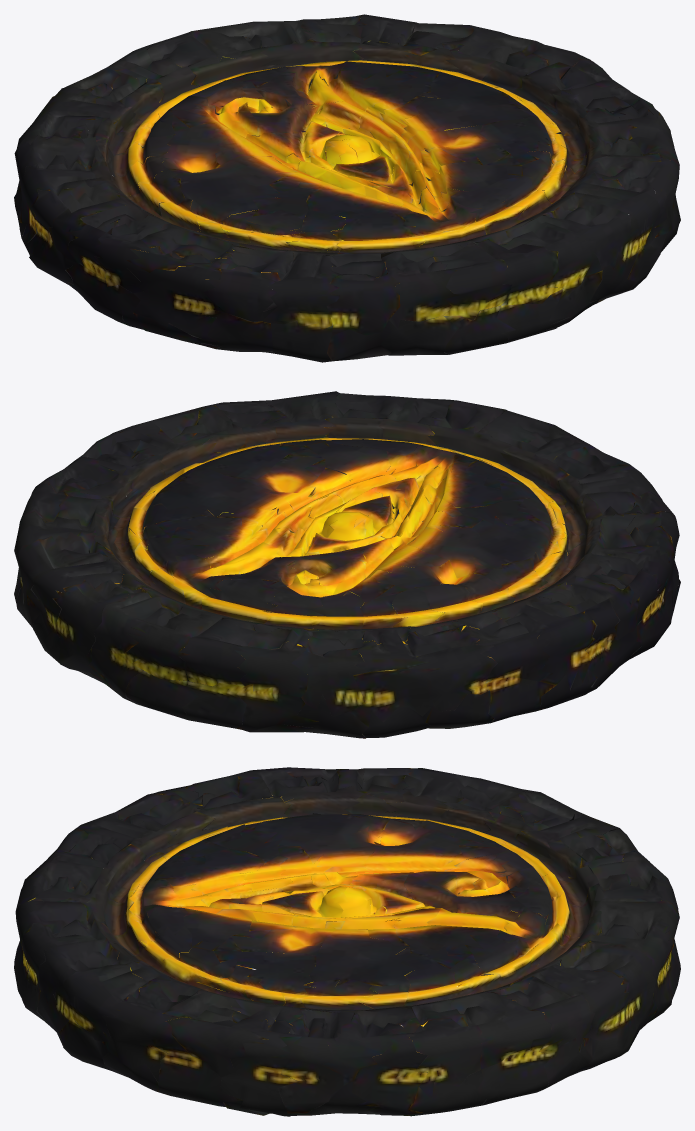
The model's file is rune_eye_v2_dec.glb.
3 views of the same model, one above another, from view 1: azimuth 30°, elevation 25°; view 2: azimuth 150°, elevation 25°; view 3: azimuth 270°, elevation 25° (orthographic).
Parts seen in each view (by area): view 1: Mesh_0.011; view 2: Mesh_0.011; view 3: Mesh_0.011.
Part boxes in pixels (<box>): Mesh_0.011: <box>14,14,680,362</box>; Mesh_0.011: <box>14,391,680,738</box>; Mesh_0.011: <box>14,767,680,1116</box>.
Size of the model in its own units: 1.91 by 0.2955 by 1.9.
1 material, 1 textured.
